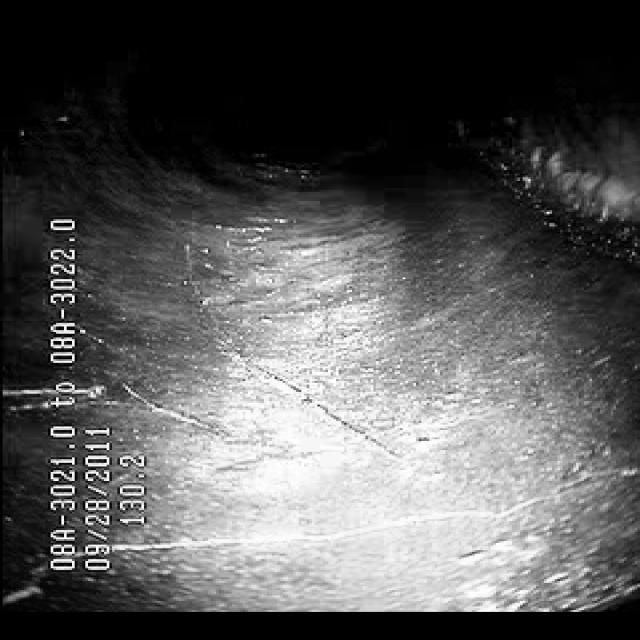Crack: (206, 320, 590, 562)
